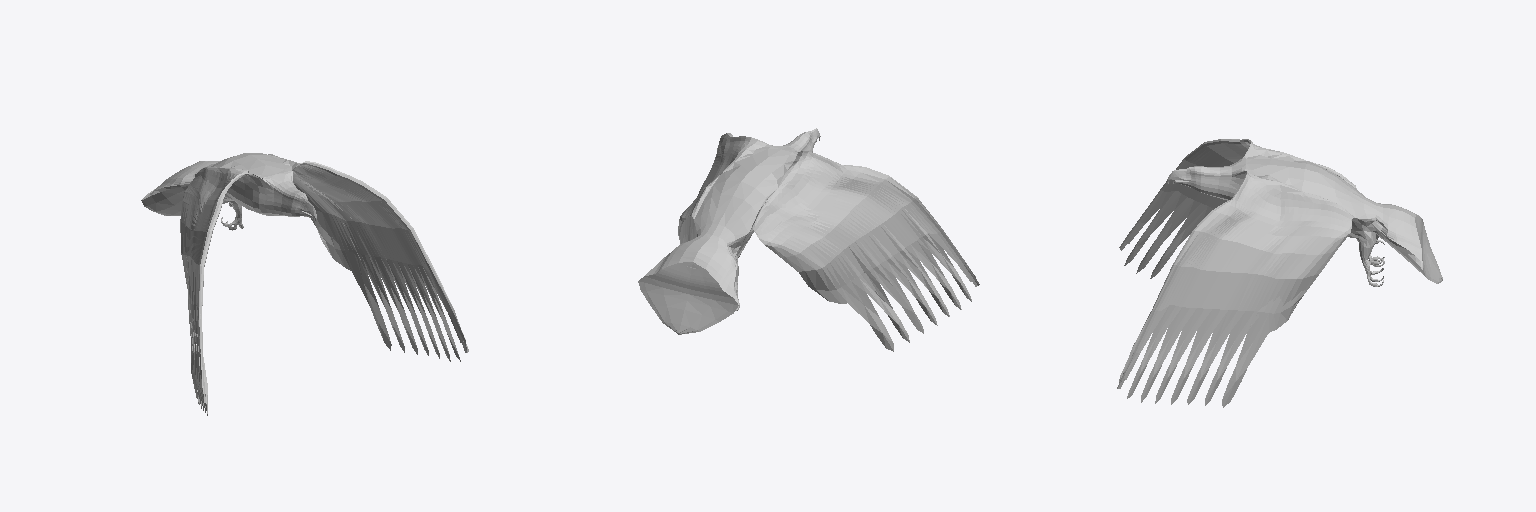
Rendered from Eagle-original_000088.obj.
3 views of the same model, side by side, from view 1: azimuth 30°, elevation 25°; view 2: azimuth 150°, elevation 25°; view 3: azimuth 270°, elevation 25° (orthographic).
Visible parts, largest first — view 1: Flugel_Plane.003; view 2: Flugel_Plane.003; view 3: Flugel_Plane.003.
Boxes of the visible parts, x1,y1,x2,y2 form: Flugel_Plane.003: [141, 153, 468, 415]; Flugel_Plane.003: [638, 128, 979, 351]; Flugel_Plane.003: [1117, 139, 1442, 407].
Size of the model in its own units: 6.15 by 4.47 by 6.59.